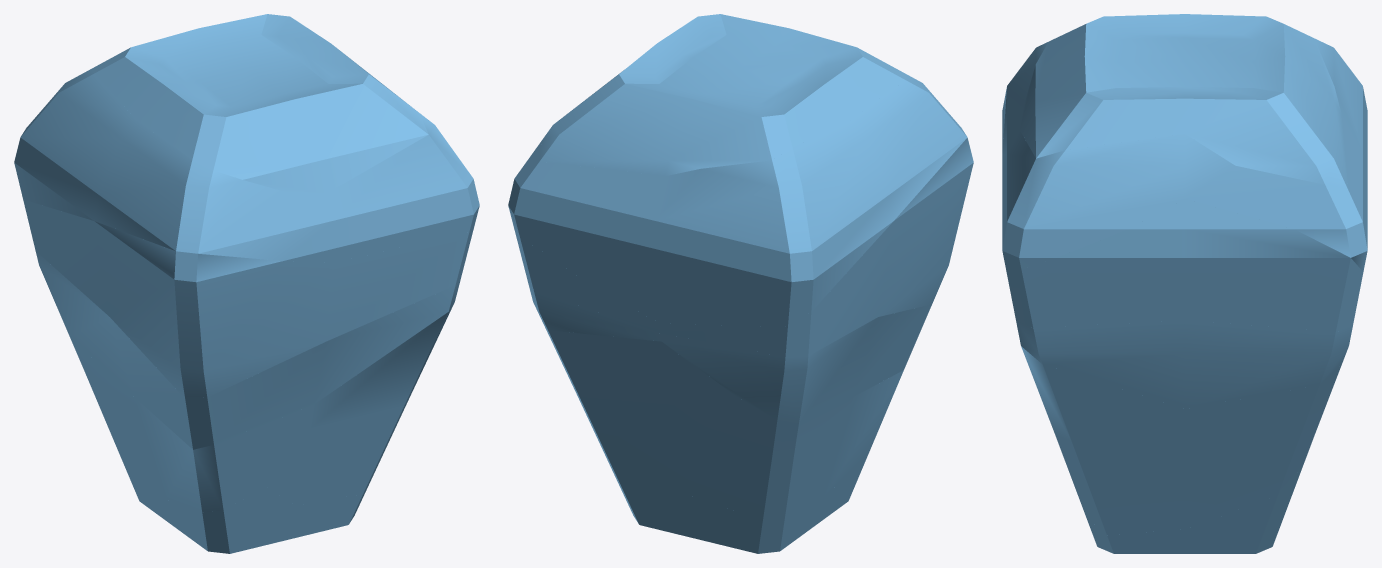
File: Gems01.fbx
3 views of the same model, side by side, from view 1: azimuth 30°, elevation 25°; view 2: azimuth 150°, elevation 25°; view 3: azimuth 270°, elevation 25° (orthographic). The views are drawn at different scales.
Visible parts, largest first — view 1: Crystal3.002, Crystal3.003, Crystal3.001, Crystal3.005, Crystal3.004, Crystal3.006; view 2: Crystal3.002, Crystal3.001, Crystal3.005, Crystal3.003, Crystal3.004, Crystal3.006; view 3: Crystal3.001, Crystal3.002, Crystal3.003, Crystal3.005, Crystal3.004, Crystal3.006.
Boxes of the visible parts, box(x1,y1,x2,y2) form: Crystal3.002: box(14, 69, 479, 262); Crystal3.003: box(23, 199, 476, 398); Crystal3.001: box(91, 14, 428, 193); Crystal3.005: box(70, 312, 448, 512); Crystal3.004: box(35, 251, 461, 449); Crystal3.006: box(114, 442, 363, 553); Crystal3.002: box(508, 74, 967, 326); Crystal3.001: box(540, 14, 905, 176); Crystal3.005: box(548, 330, 903, 520); Crystal3.003: box(508, 137, 973, 356); Crystal3.004: box(527, 281, 931, 424); Crystal3.006: box(599, 439, 869, 553); Crystal3.001: box(1020, 14, 1348, 189); Crystal3.002: box(1002, 38, 1367, 271); Crystal3.003: box(1002, 87, 1363, 331); Crystal3.005: box(1021, 346, 1341, 535); Crystal3.004: box(1016, 320, 1352, 408); Crystal3.006: box(1086, 466, 1302, 553).
Size of the model in its own units: 142 by 198 by 142.
